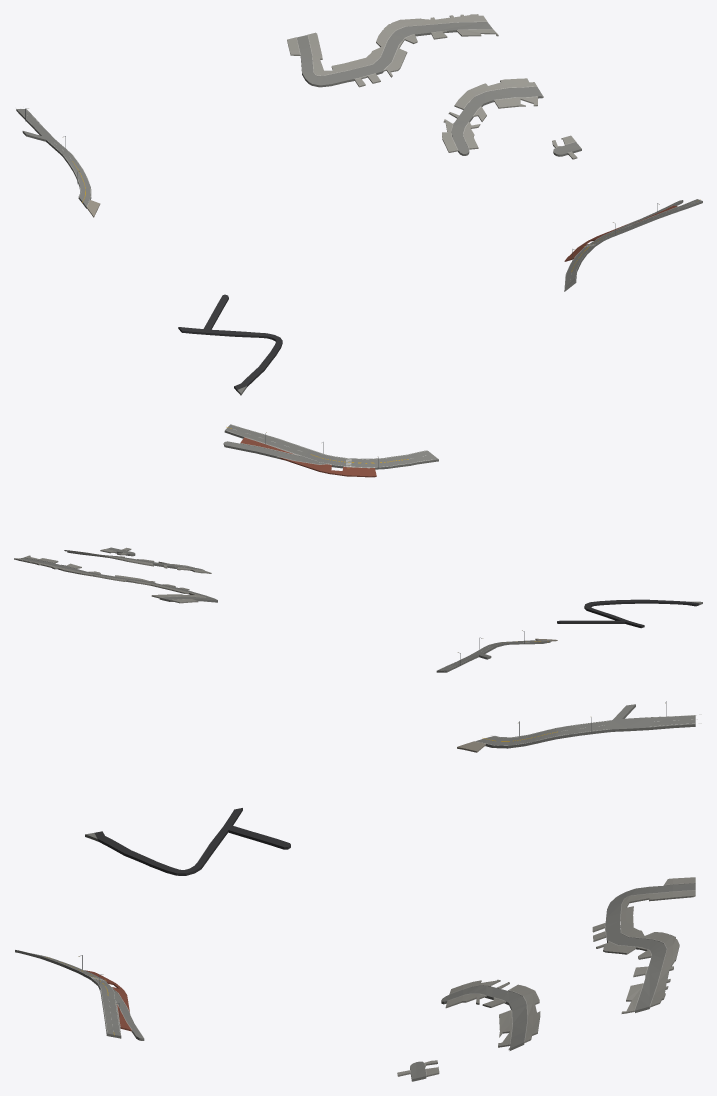
Rendered from 17-109452-59474.24ddf5de.glb.
The picture shows the model from 3 angles, top to bottom: view 1: azimuth 30°, elevation 25°; view 2: azimuth 150°, elevation 25°; view 3: azimuth 270°, elevation 25°; orthographic projection. The views are drawn at different scales.
Size of the model in its own units: 296 by 68.47 by 295.
